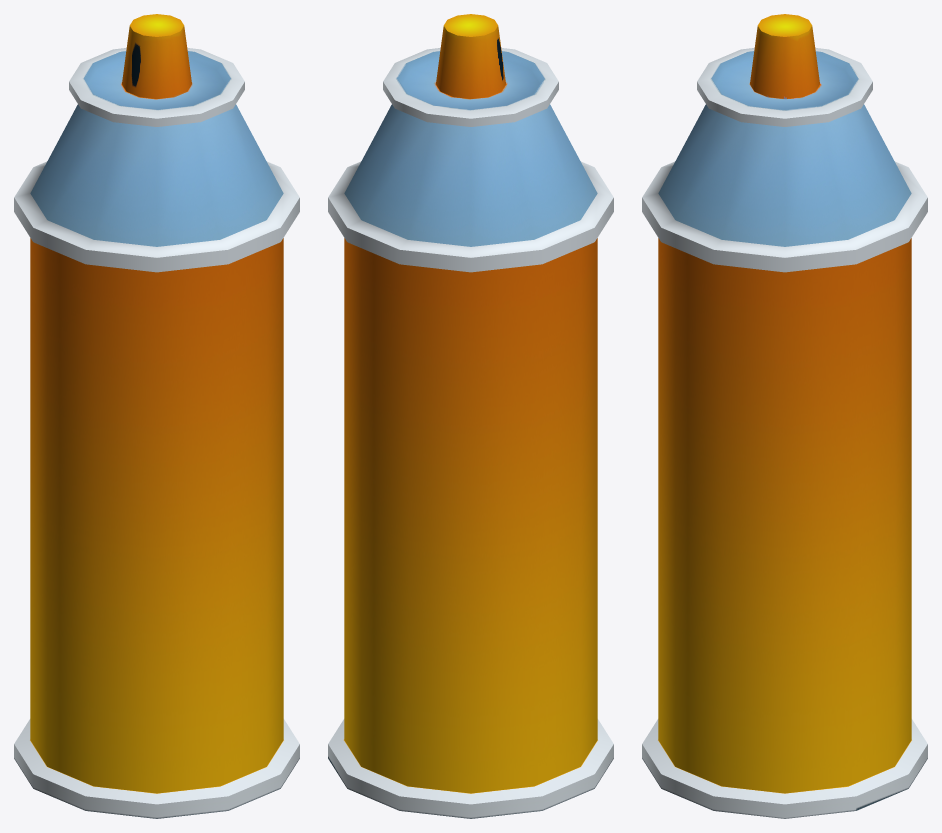
Rendered from binhson.fbx.
The picture shows the model from 3 angles, left to right: view 1: azimuth 30°, elevation 25°; view 2: azimuth 150°, elevation 25°; view 3: azimuth 270°, elevation 25°; orthographic projection.
Parts seen in each view (by area): view 1: pCylinder77; view 2: pCylinder77; view 3: pCylinder77.
Boxes of the visible parts, x1=… form: pCylinder77: x1=14, y1=14, x2=299, y2=818; pCylinder77: x1=328, y1=14, x2=613, y2=818; pCylinder77: x1=642, y1=14, x2=927, y2=818.
Bounding box in the file's own units: 12.97 × 36.91 × 12.97.
